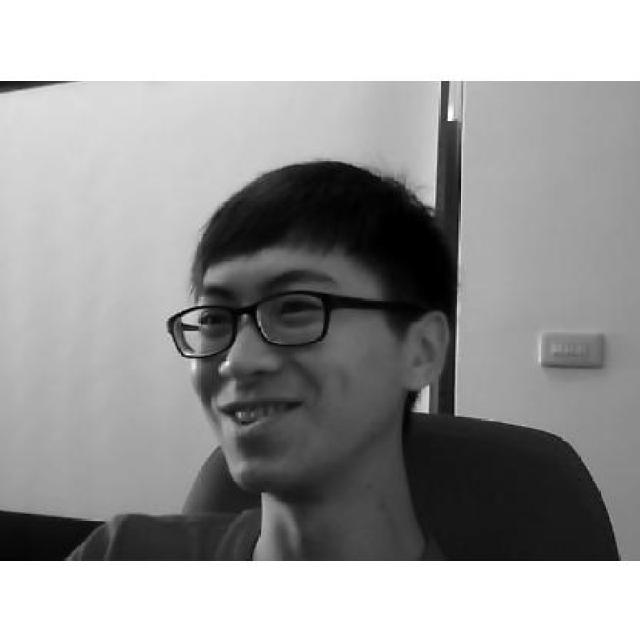attentif: (169, 160, 449, 492)
